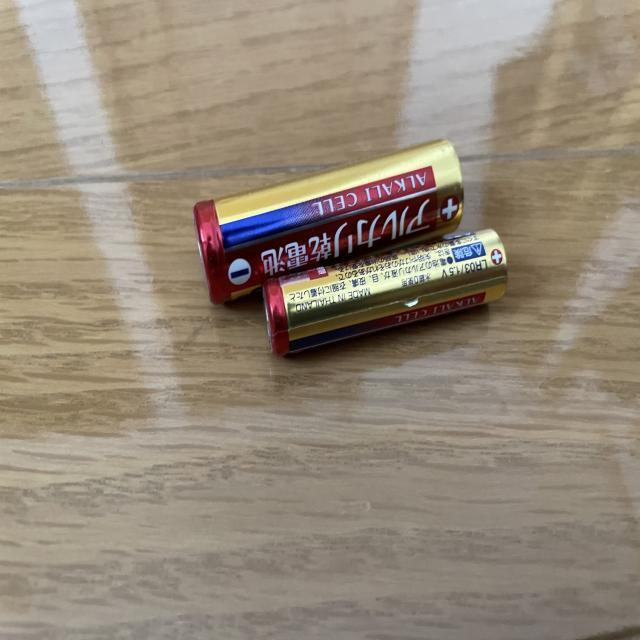battery: (189, 131, 471, 310), (260, 225, 508, 361)
